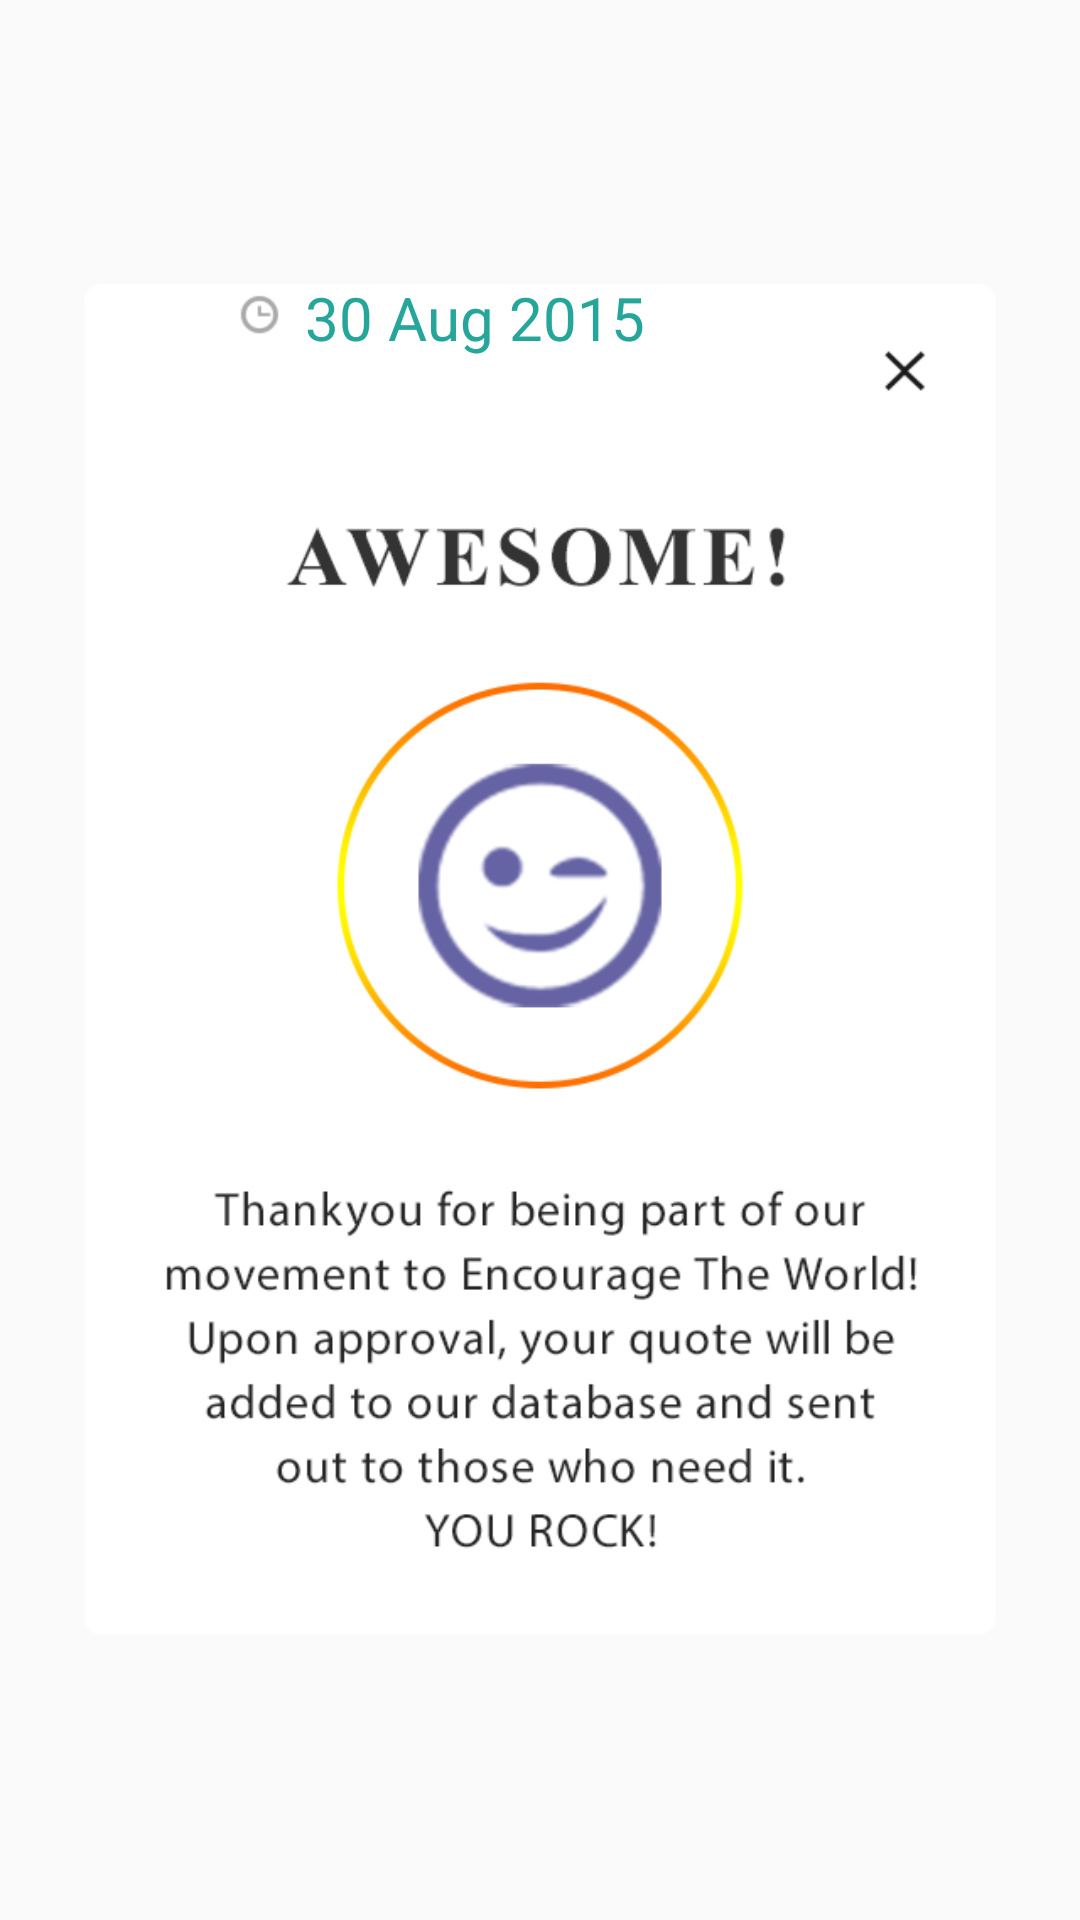

Locate icon controls on the screen. Image size 1080 x 1920, boxes as (x1, y1, x2, y2).
time: (241, 296, 278, 333)
